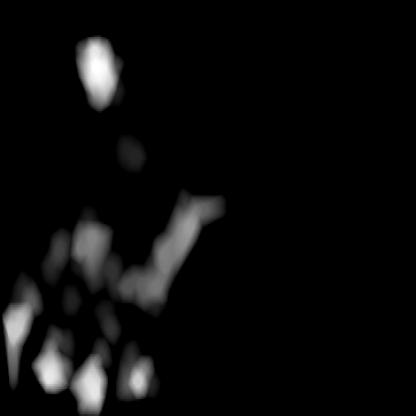fingers: (77, 36, 122, 112)
palm: (1, 288, 158, 408)
thumb: (66, 138, 198, 310)
